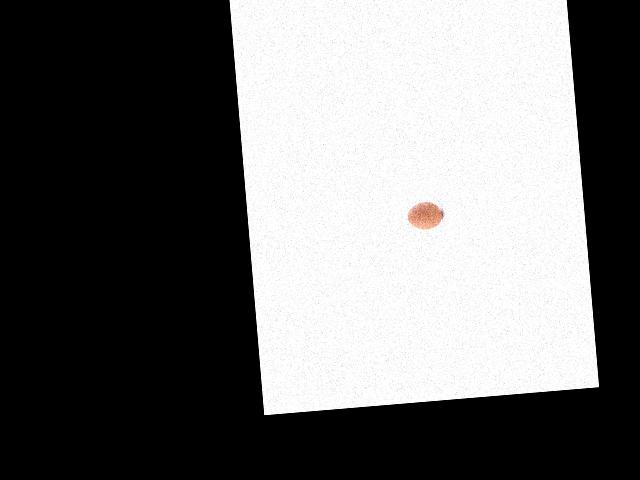egg: (406, 200, 443, 230)
